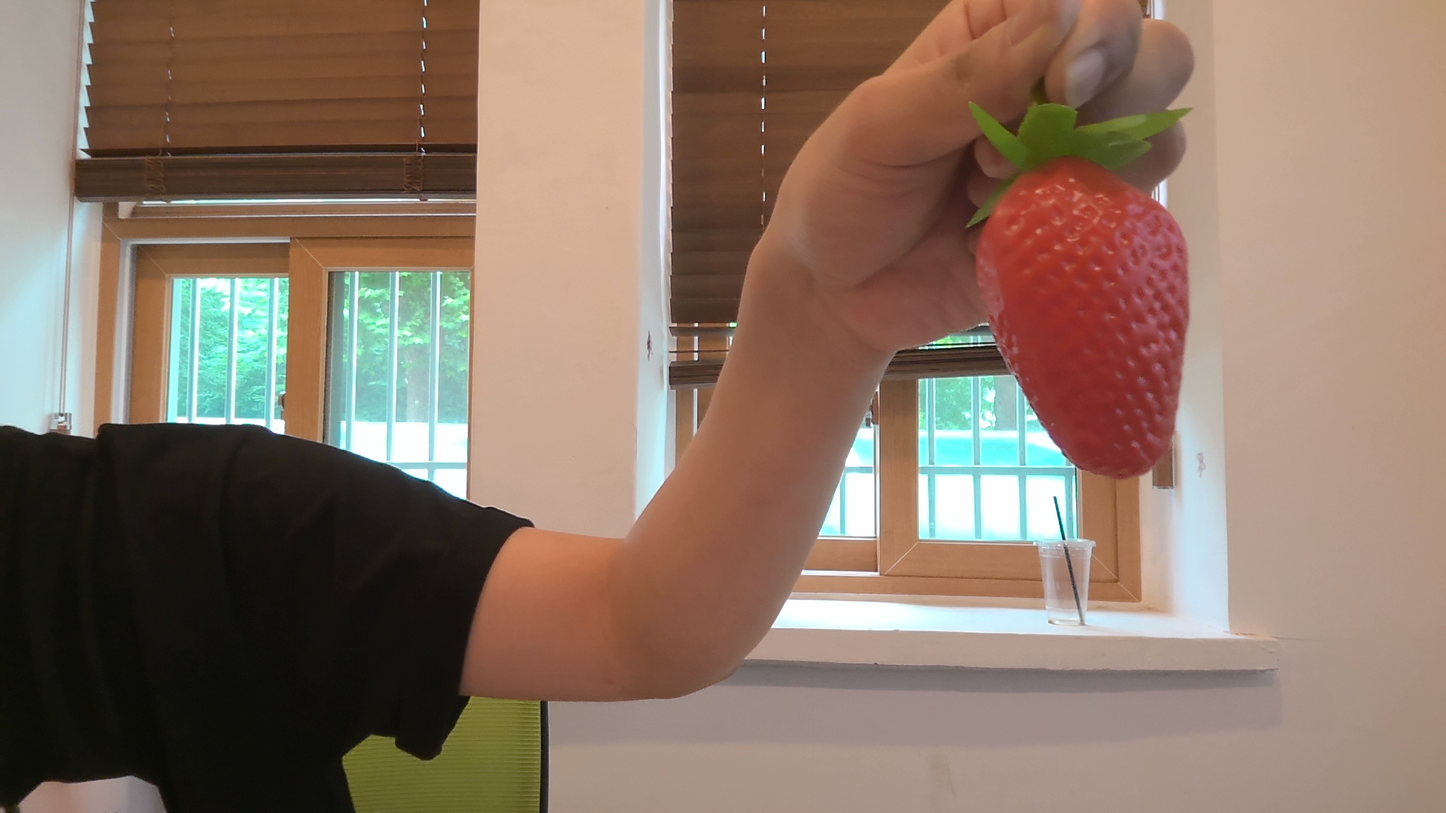strawberry: (959, 129, 1206, 488)
